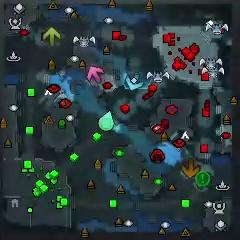p2: (99, 111, 115, 131)
x1: (87, 66, 104, 84)
x2: (42, 27, 61, 47)
x3: (125, 73, 144, 90)
x5: (182, 159, 200, 179)
